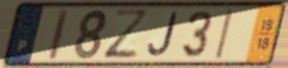3: (179, 10, 216, 59)
8: (73, 8, 109, 61)
I: (213, 7, 236, 62), (48, 7, 70, 62)
J: (146, 11, 180, 59)
Z: (101, 8, 153, 62)
